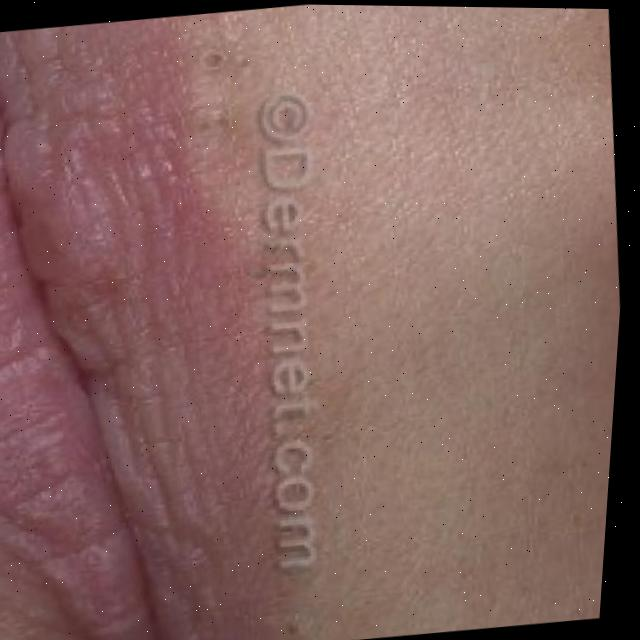Acne: (192, 39, 233, 88)
